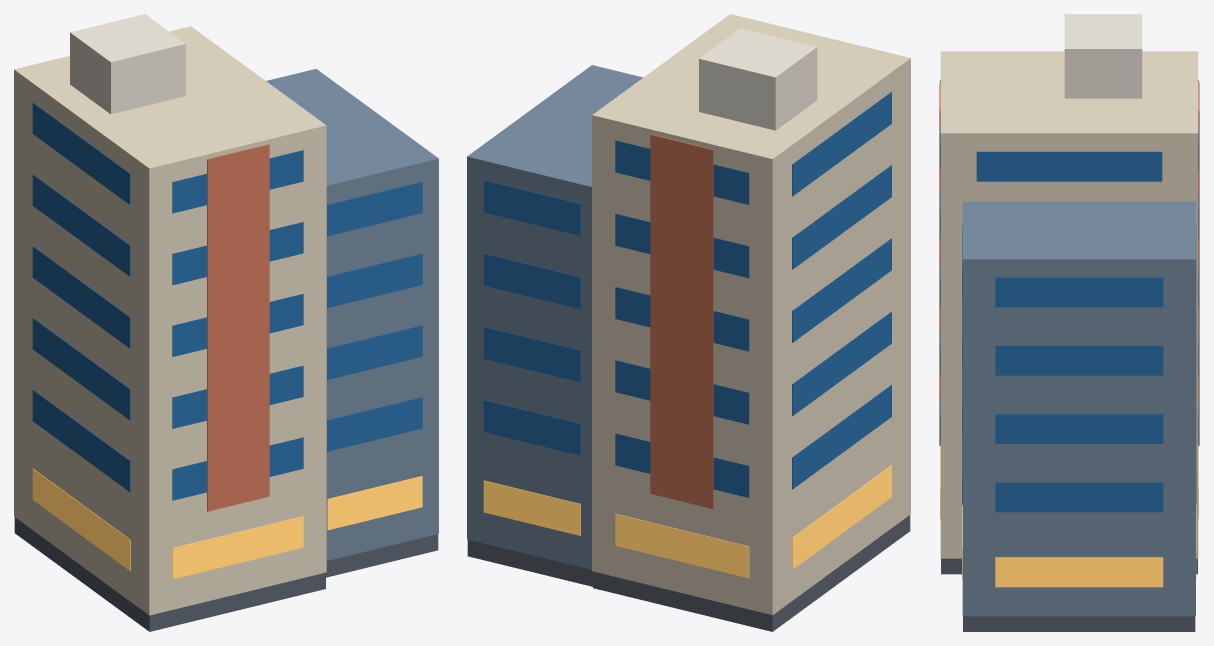
File: 02_modern_residential-lod2.glb
3 renders of one model, left to right at view 1: azimuth 30°, elevation 25°; view 2: azimuth 150°, elevation 25°; view 3: azimuth 270°, elevation 25°, orthographic. The views are drawn at different scales.
Visible parts, largest first — view 1: 02_modern_residential_LOD2; view 2: 02_modern_residential_LOD2; view 3: 02_modern_residential_LOD2.
Part boxes in pixels (x1,y1,x2,y2): 02_modern_residential_LOD2: (14,14,438,631); 02_modern_residential_LOD2: (467,14,910,631); 02_modern_residential_LOD2: (939,14,1199,631).
Bounding box in the file's own units: 13.64 × 22.27 × 10.7.
Materials: 2 (2 with a texture image).
